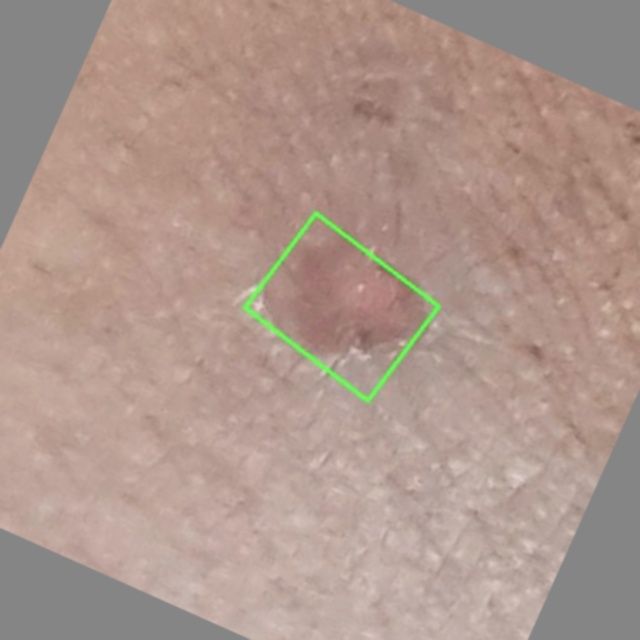Atopic Dermatitis: (245, 212, 440, 400)
